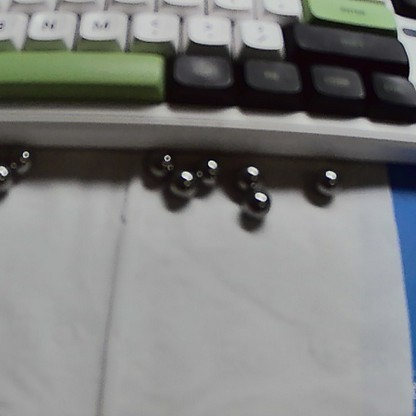ironball: (302, 159, 348, 201), (150, 139, 185, 184), (163, 166, 203, 204), (235, 189, 271, 229), (187, 150, 223, 189), (4, 144, 40, 179), (237, 163, 273, 194)
